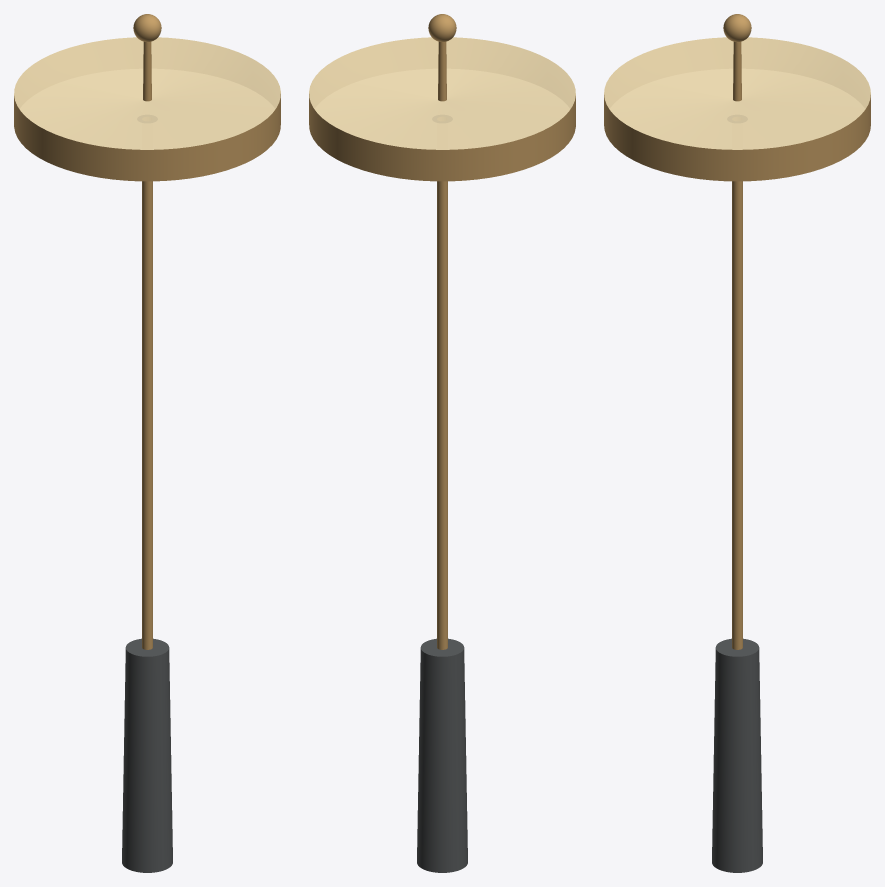
Rendered from FloorLight.fbx.
3 renders of one model, left to right at view 1: azimuth 30°, elevation 25°; view 2: azimuth 150°, elevation 25°; view 3: azimuth 270°, elevation 25°, orthographic.
Visible parts, largest first — view 1: Cylinder; view 2: Cylinder; view 3: Cylinder.
Boxes of the visible parts, x1,y1,x2,y2 form: Cylinder: (14, 14, 280, 872); Cylinder: (309, 14, 575, 872); Cylinder: (604, 14, 870, 872).
Size of the model in its own units: 540 by 1888 by 540.
